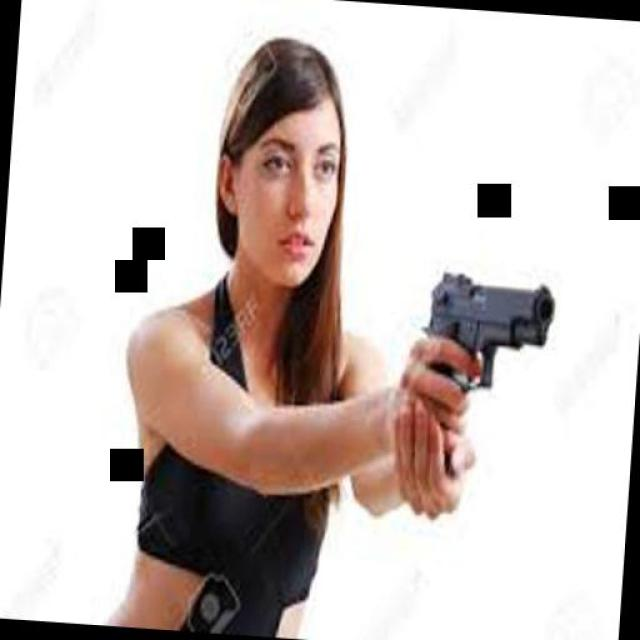gun: (399, 255, 559, 463)
